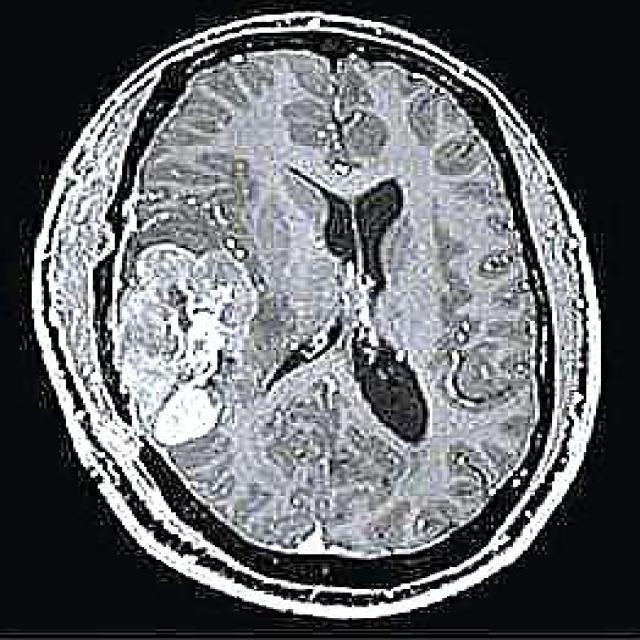brain tumor: (107, 244, 249, 445)
